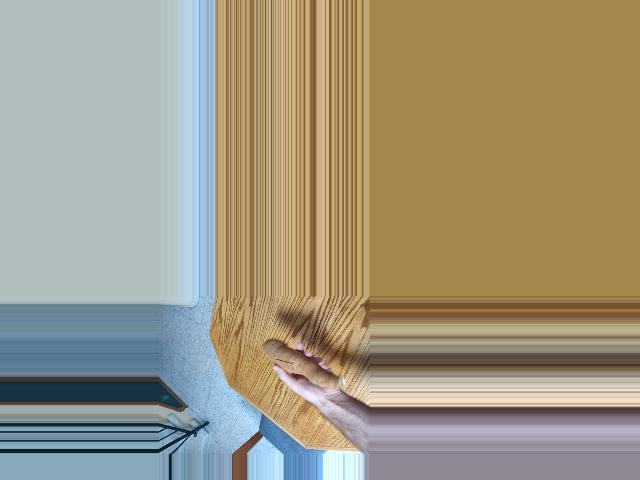sweet_potato: (259, 338, 347, 395)
